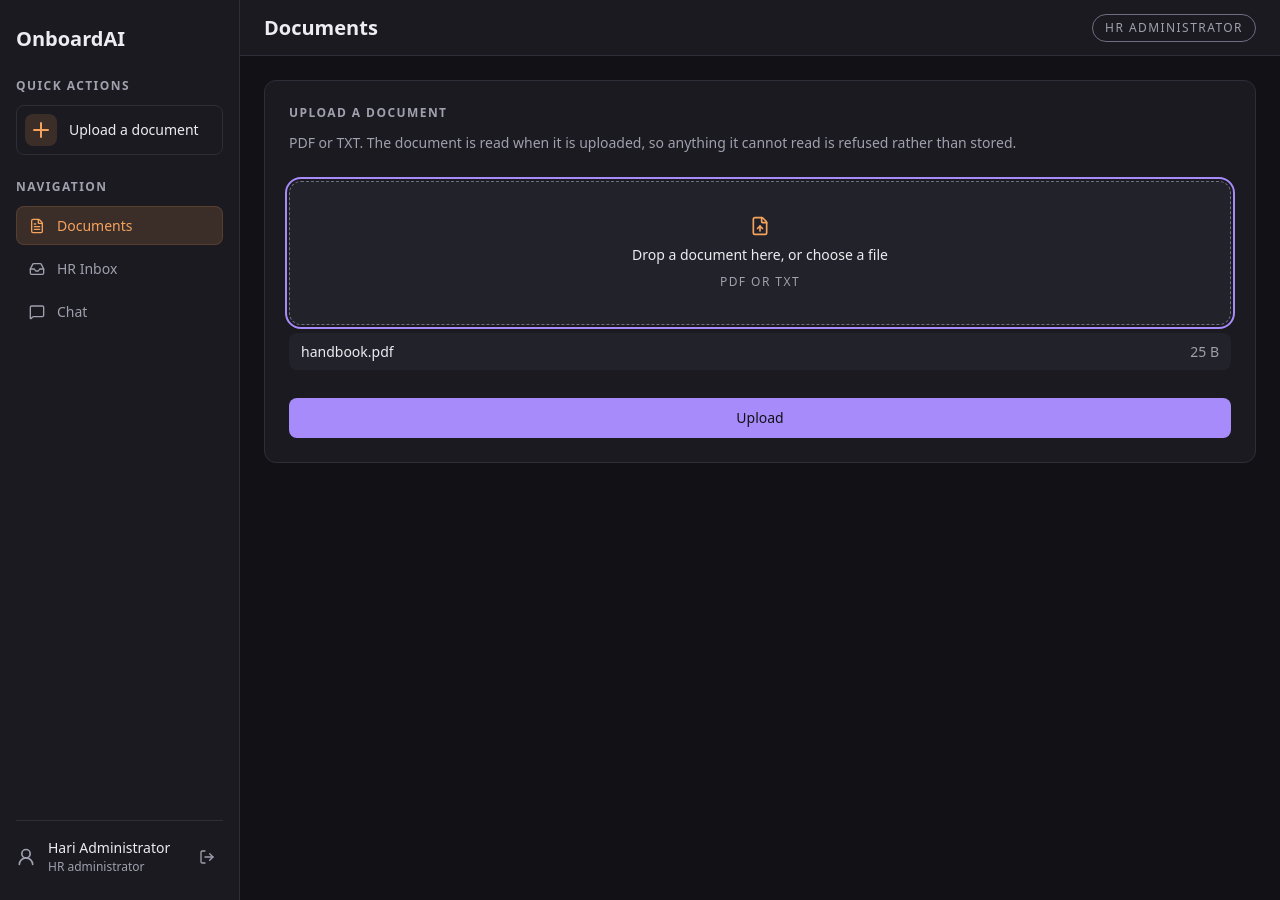
it: once the bytes are up but the server is still reading › survives a progress event arriving after the answer
Earlier steps of the test are not shown.
Click the button "Upload" at (760, 418), box x1=289 y1=398 x2=1231 y2=438
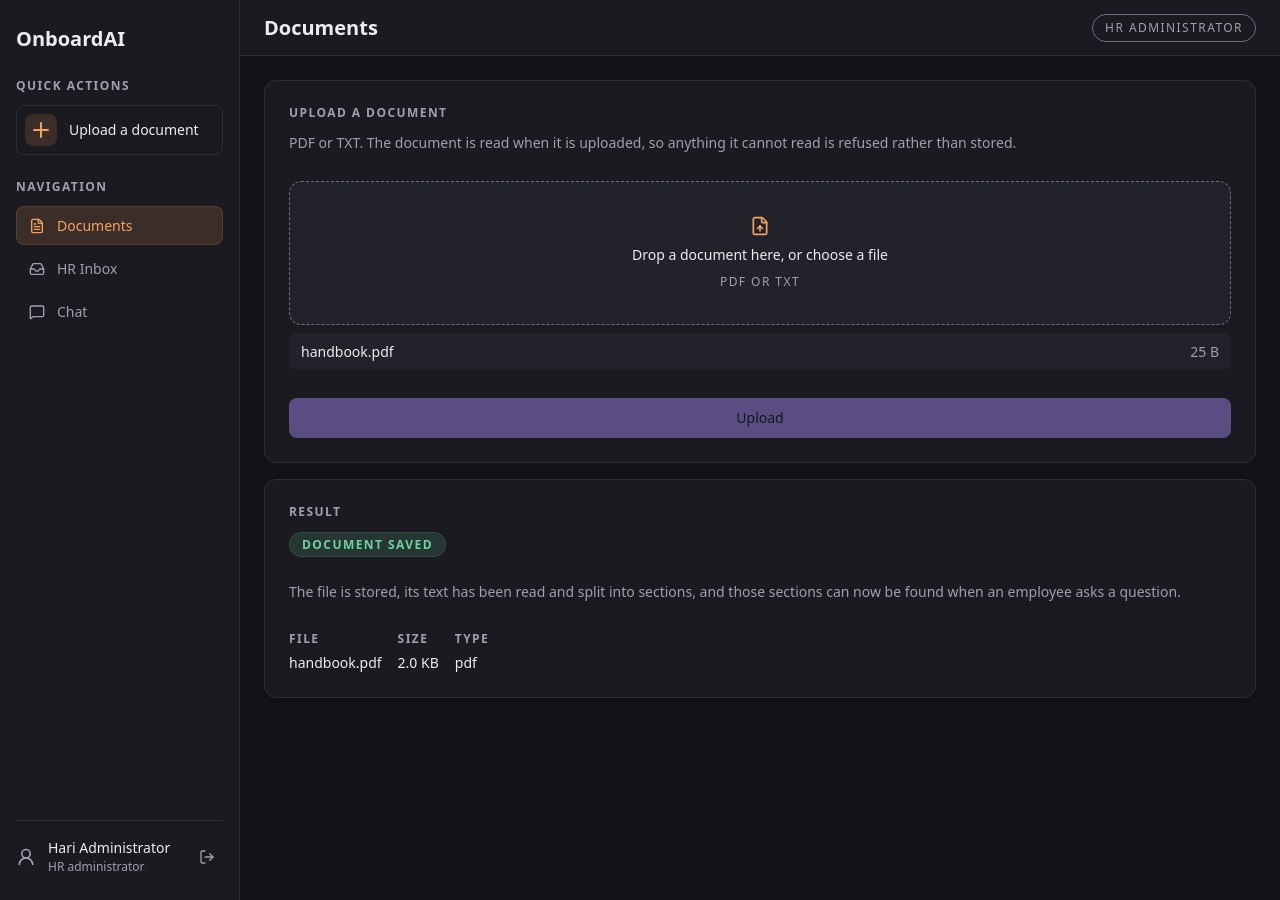
Check: the text "Document saved" is shown, box x1=289 y1=532 x2=446 y2=557
